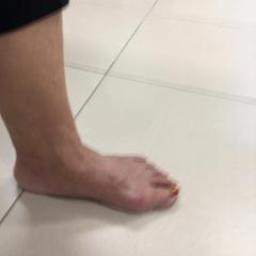Medial View -Left Foot-: (4, 102, 198, 230)
